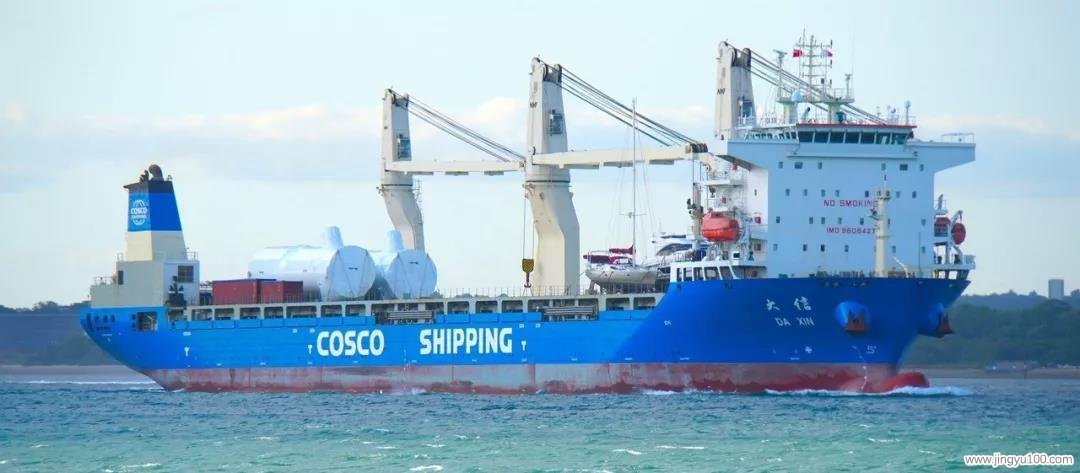Cargoship: (84, 3, 993, 406)
